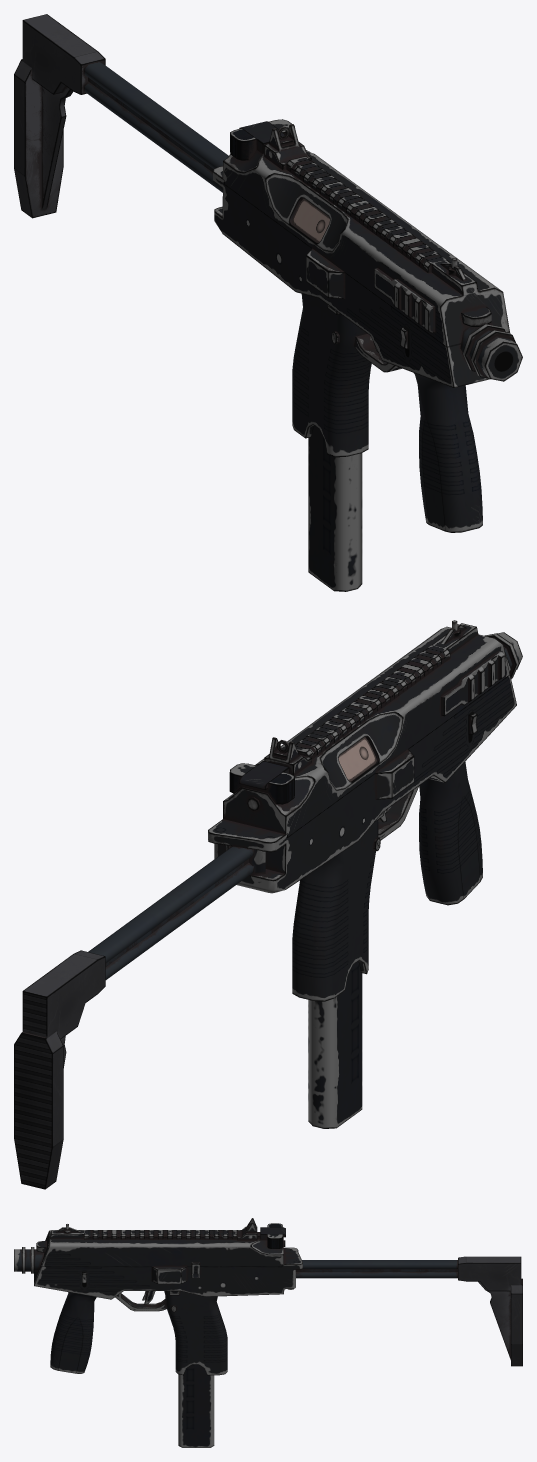
3 views of the same model, one above another, from view 1: azimuth 30°, elevation 25°; view 2: azimuth 150°, elevation 25°; view 3: azimuth 270°, elevation 25° (orthographic). The views are drawn at different scales.
Visible parts, largest first — view 1: MP9; view 2: MP9; view 3: MP9.
Boxes of the visible parts, left/top/right/bottom form: MP9: left=14, top=14, right=522, bottom=591; MP9: left=14, top=620, right=522, bottom=1189; MP9: left=14, top=1218, right=522, bottom=1447.
Size of the model in its own units: 57.43 by 264 by 545.
